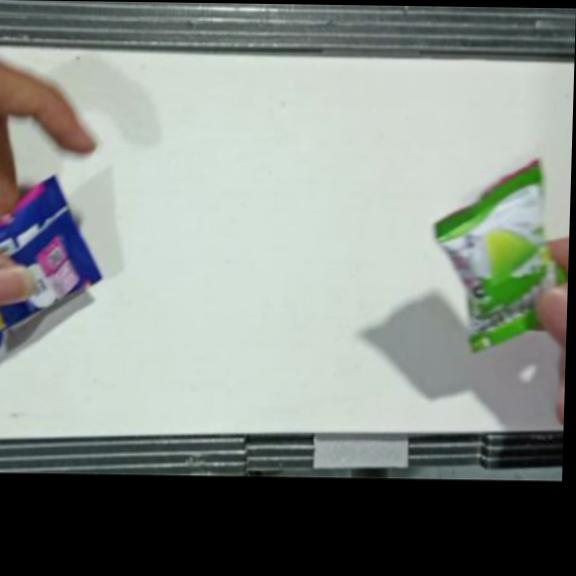Plastik: (430, 158, 572, 354), (0, 174, 107, 363)
